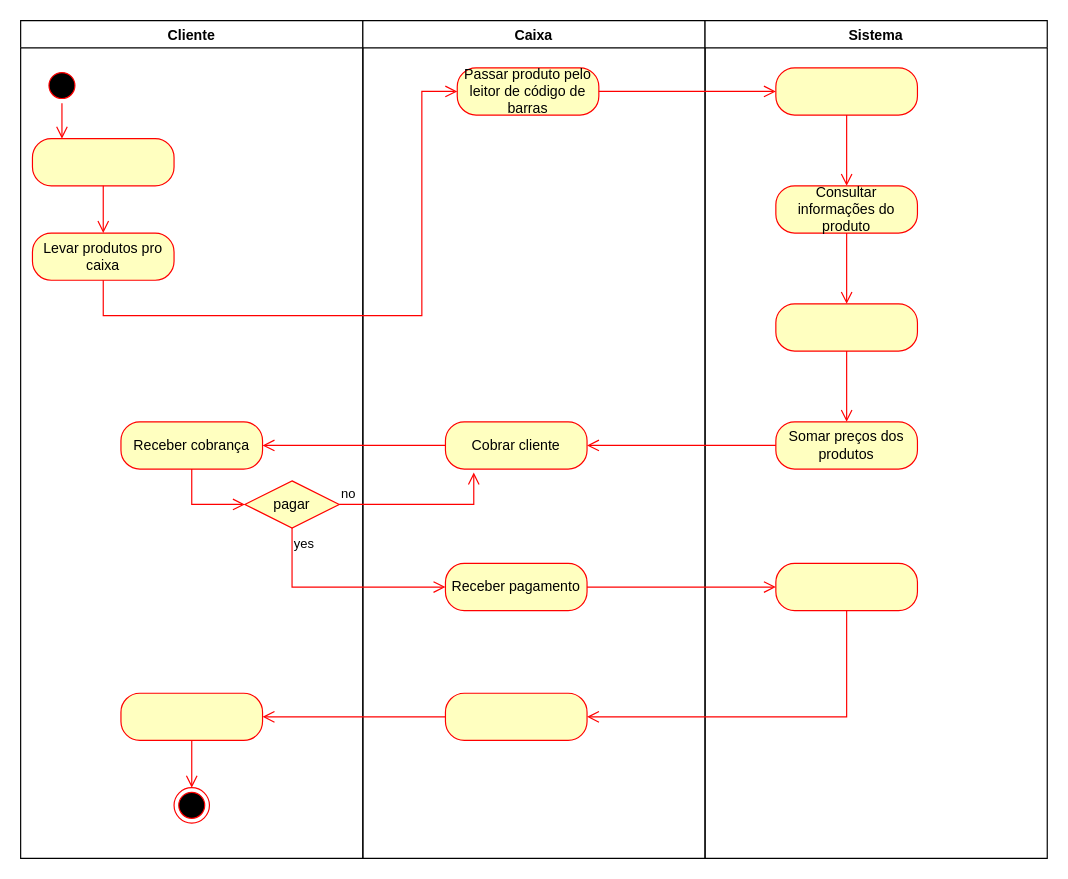
Image size: 1068x879. Some labels were removed from this diagram. The shapes that lost their labels are listed below. From the top down, each one's centre as x and y in pixels, then its label:
At point 846,91: "Ler código de barras".
At point 102,161: "Pegar produtos".
At point 846,327: "Exibir informações do produto".
At point 846,586: "Faturar pagamento".
At point 191,716: "Receber produtos".
At point 515,716: "Confirmar faturamento".
